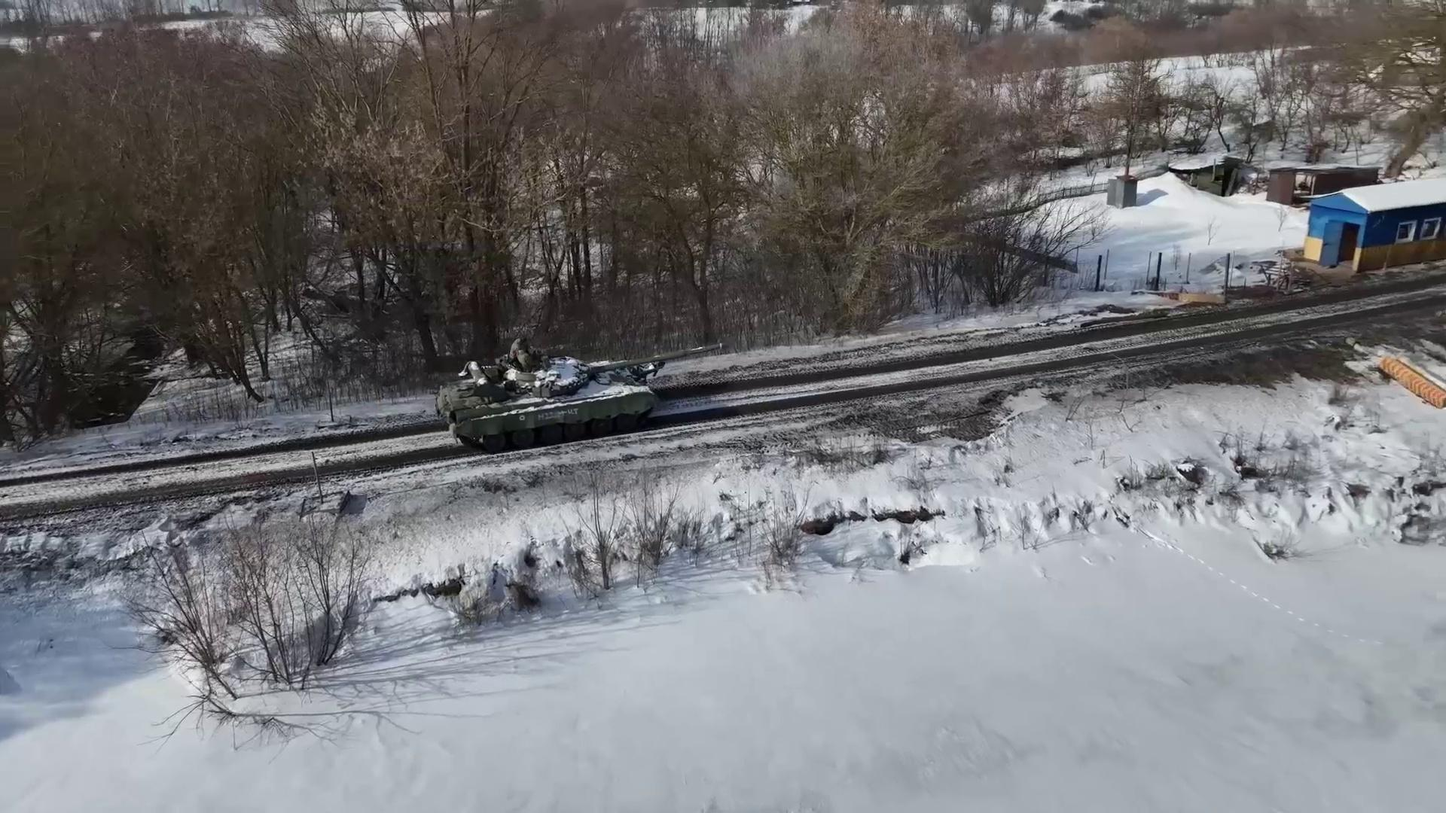tank: (435, 335, 730, 454)
